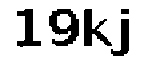1: (12, 6, 44, 51)
9: (47, 8, 81, 47)
j: (112, 5, 137, 59)
k: (82, 5, 114, 48)
